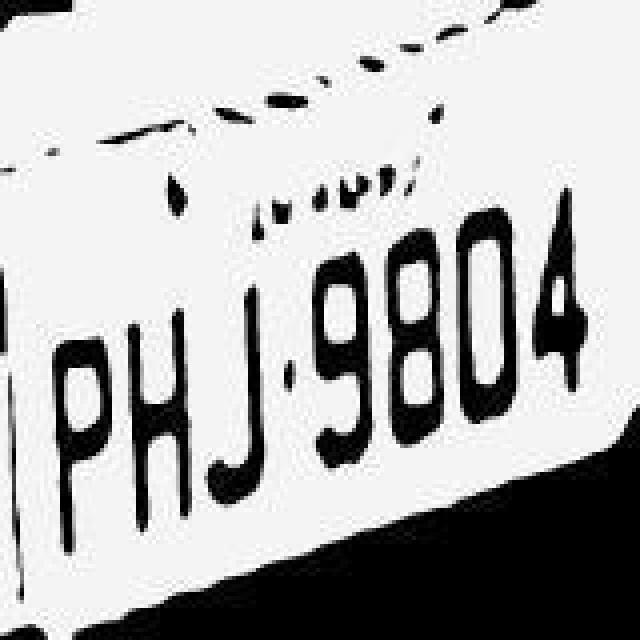4: (522, 160, 598, 424)
8: (376, 216, 448, 488)
9: (300, 236, 372, 516)
H: (122, 260, 198, 532)
J: (200, 260, 272, 524)
O: (452, 170, 524, 446)
P: (40, 258, 120, 526)
